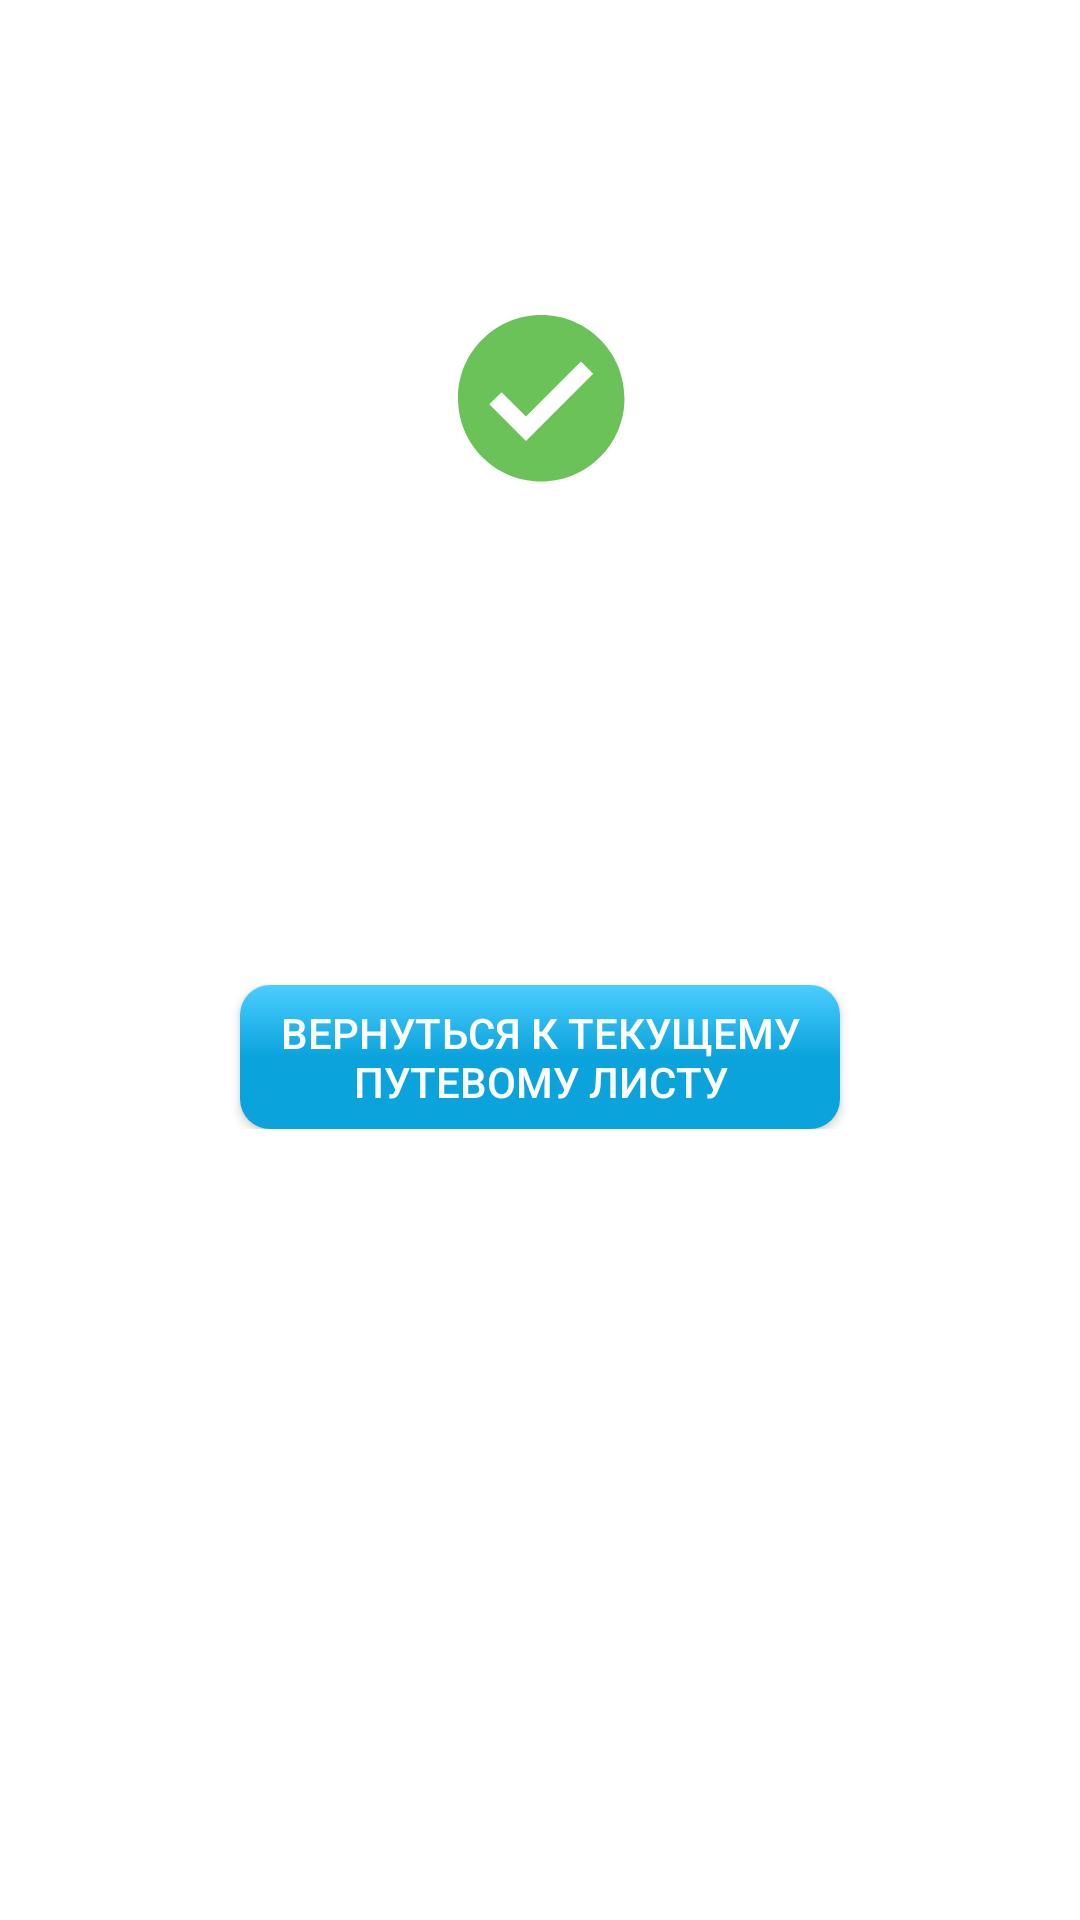

Where icons sit on this 1080×1920 app screen, as (x1, y1, x2, y2):
check: (458, 315, 625, 482)
